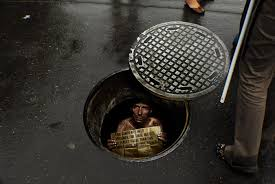Manhole-Open: (83, 63, 206, 160)
human: (235, 1, 272, 183), (118, 99, 163, 154)
